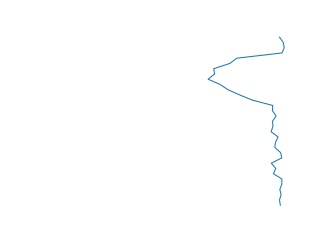distalBar: (201, 36, 293, 206)
